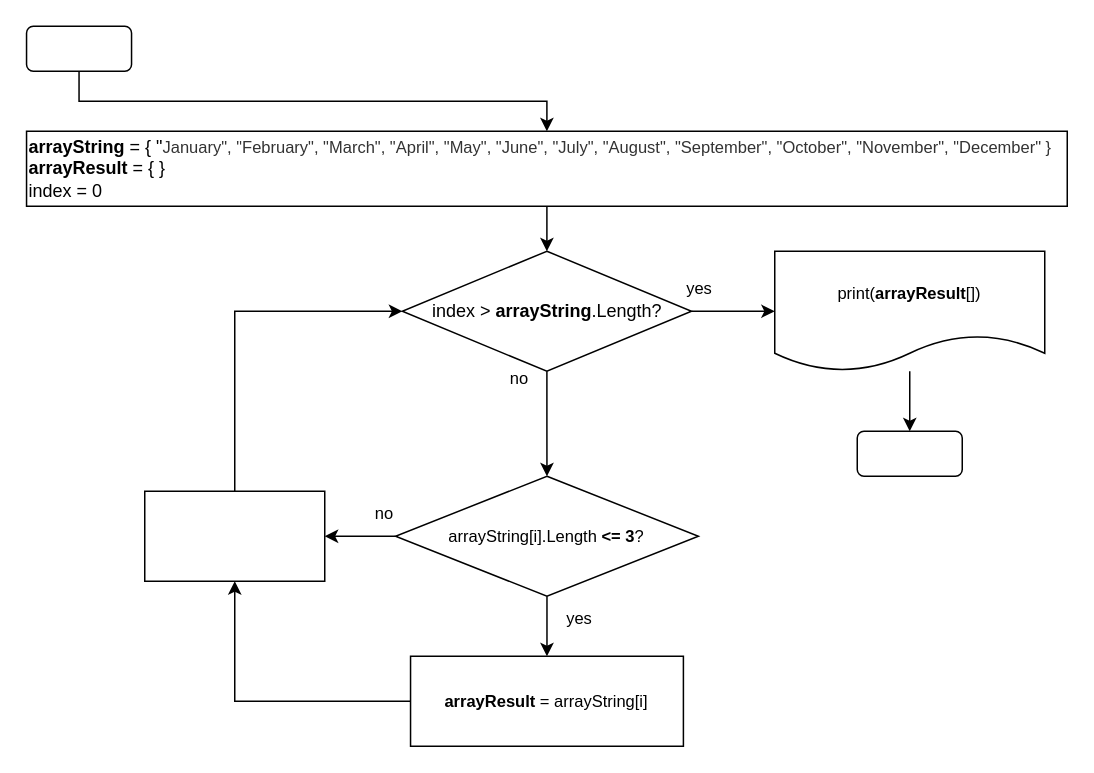
Image size: 1094x773. Some labels were removed from this diagram. The centre of each missing label's shape, as x and y in pixels:
"END" goes at [909,453].
"index++" goes at [234,535].
"START" goes at [78,48].
